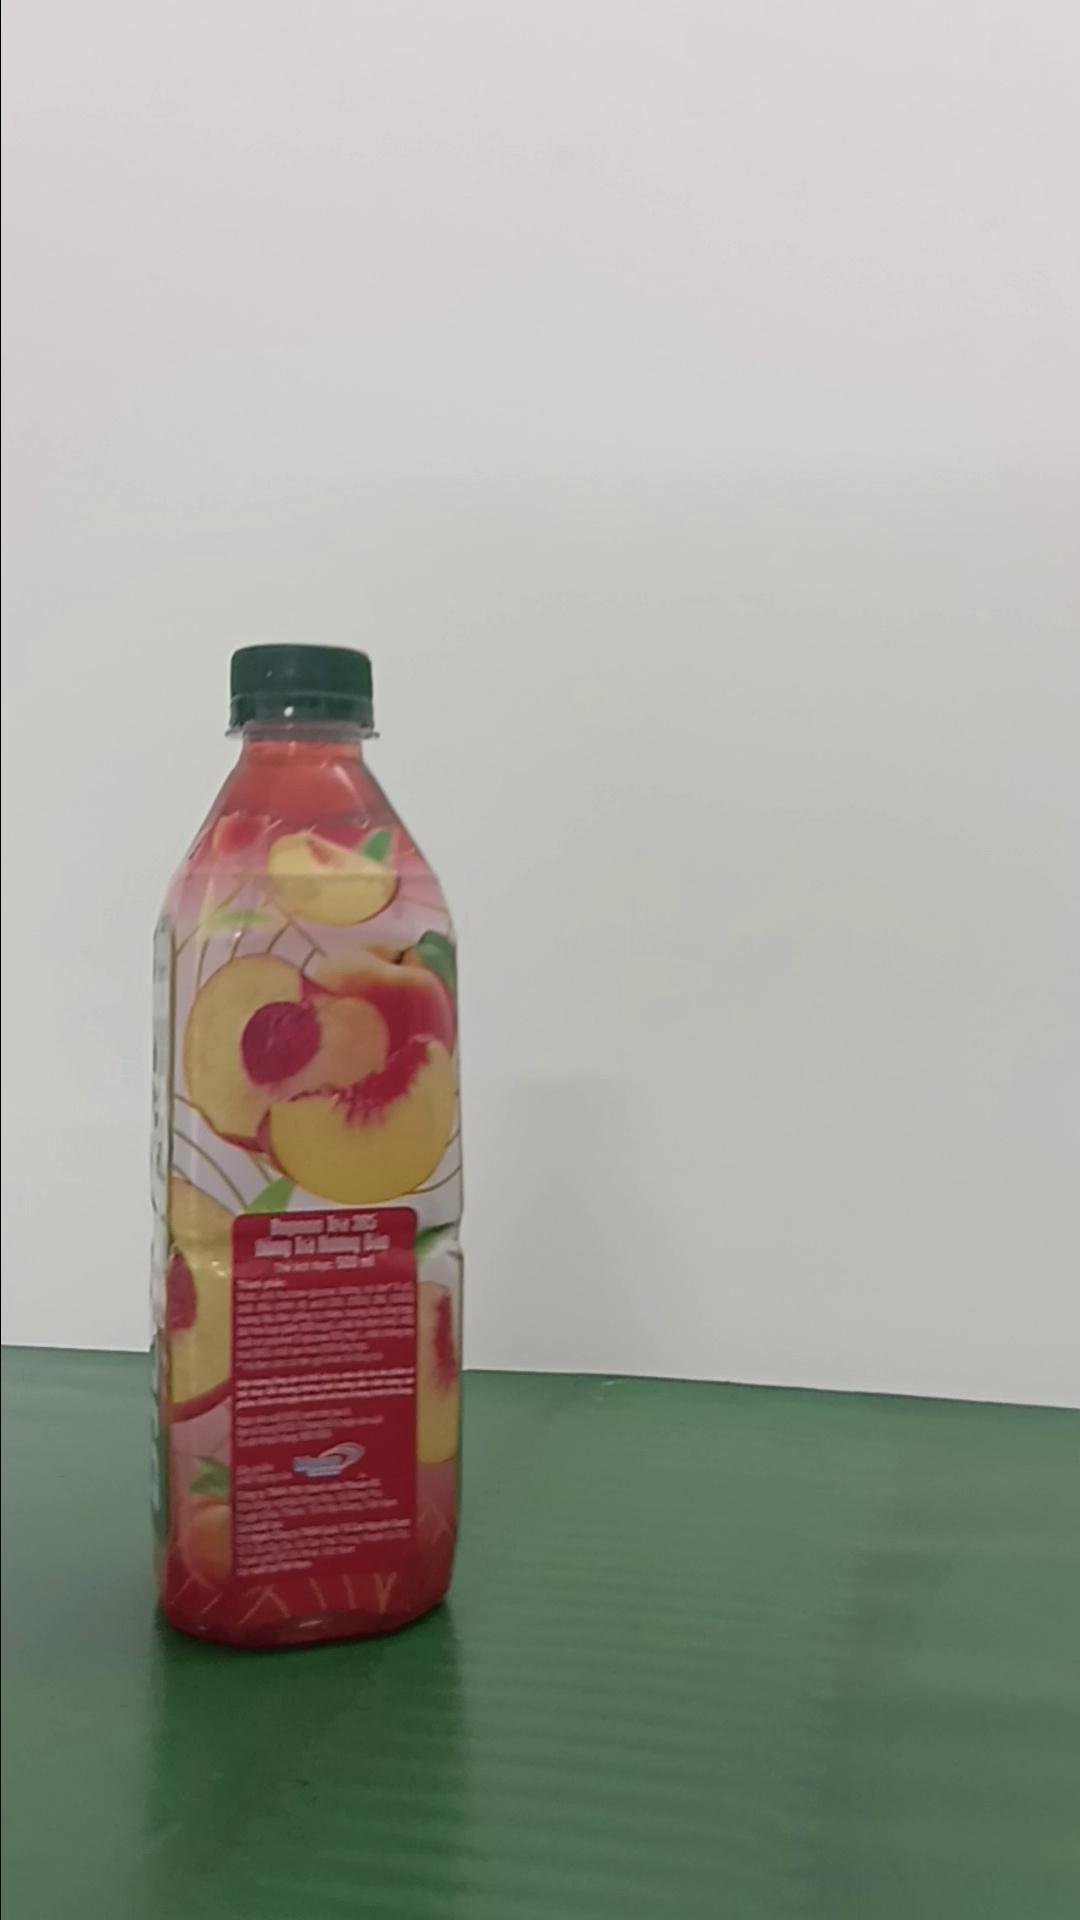khong loi: (145, 640, 468, 1649)
